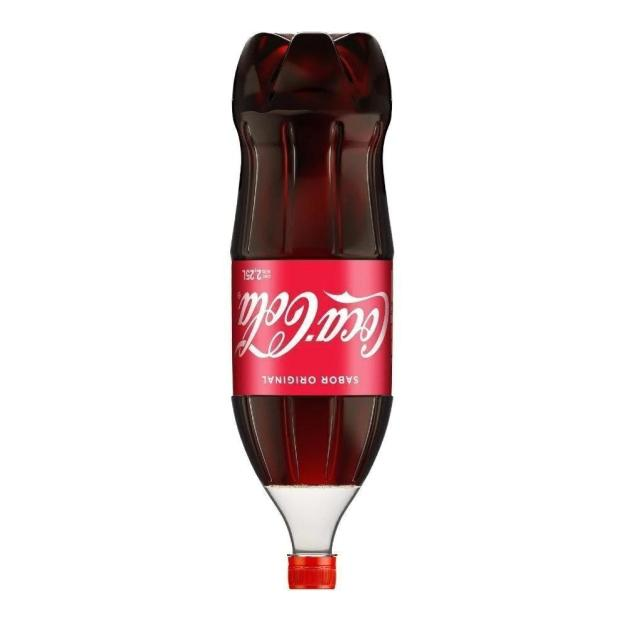coca-cola: (220, 29, 412, 602)
